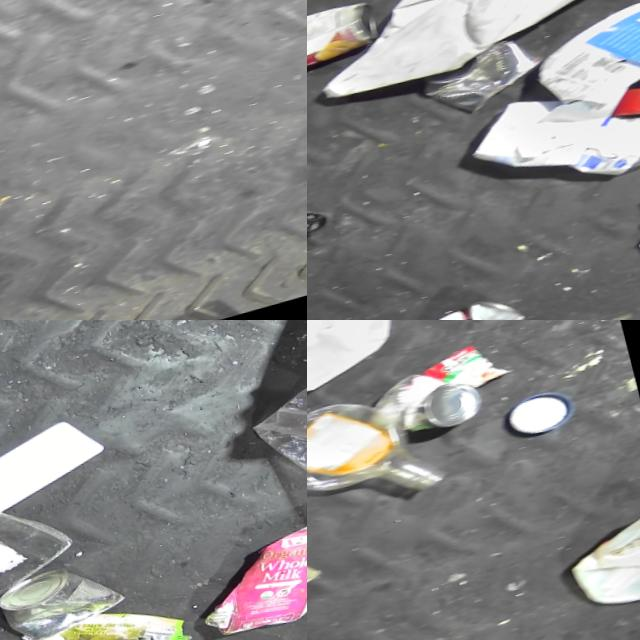can: (411, 33, 553, 131), (366, 364, 488, 459), (0, 555, 126, 640), (307, 0, 385, 79), (388, 292, 532, 320)
milk_jug: (0, 414, 111, 539), (307, 320, 412, 430), (553, 512, 640, 628)
